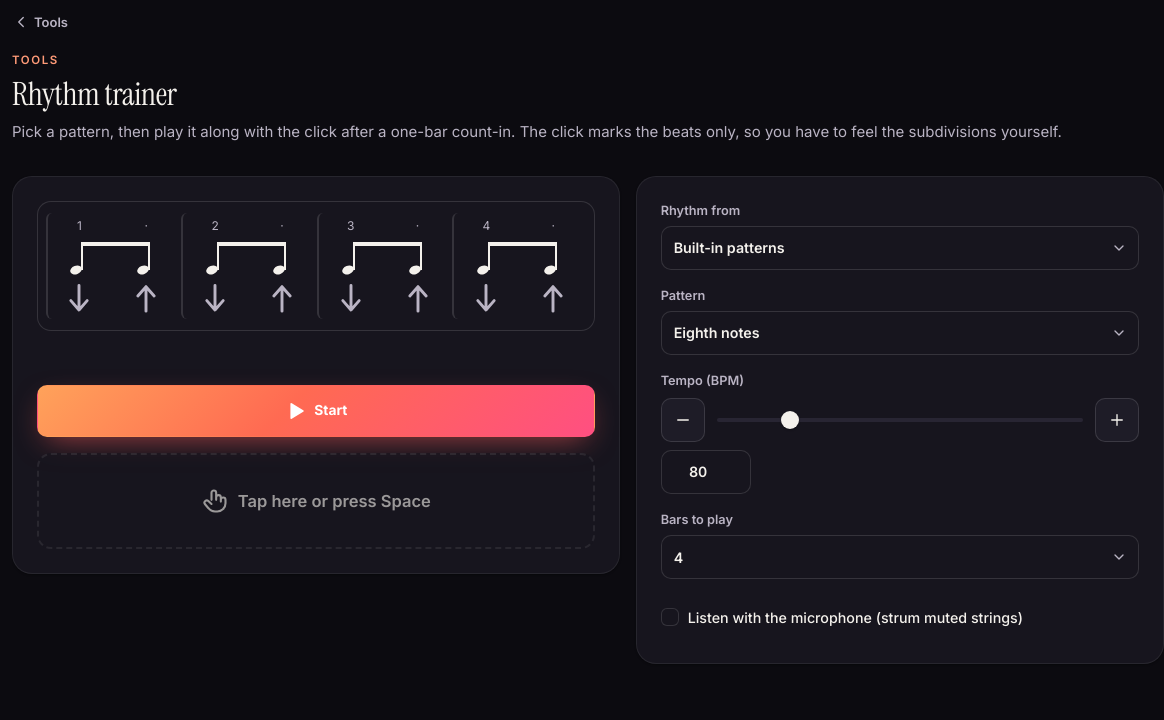
Scenario: RhythmTrainerView › draws the chosen pattern with rests and strum arrows
Select "Syncopation" in the dropdown with test id "rhythm-pattern" at (900, 333), box left=661, top=311, right=1139, bottom=355
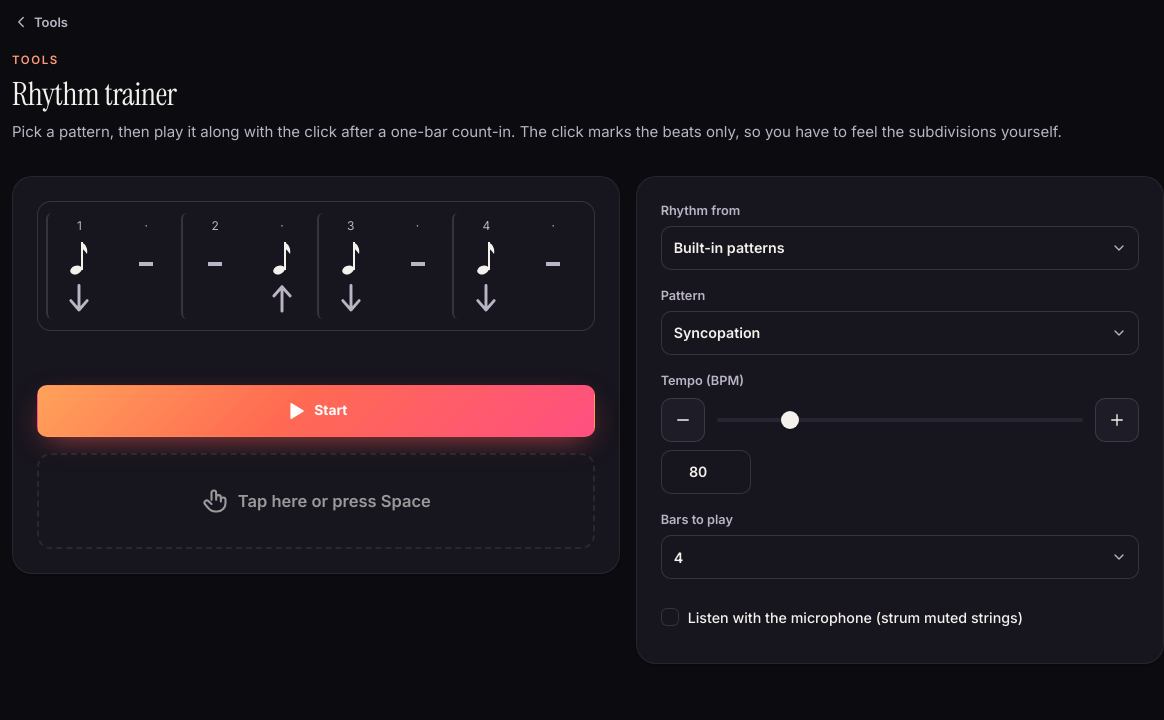
Check: the number of icons with class "rhythm-strum" is 4, box left=65, top=282, right=93, bottom=315; left=268, top=282, right=296, bottom=315; left=337, top=282, right=365, bottom=315; left=472, top=282, right=500, bottom=315
